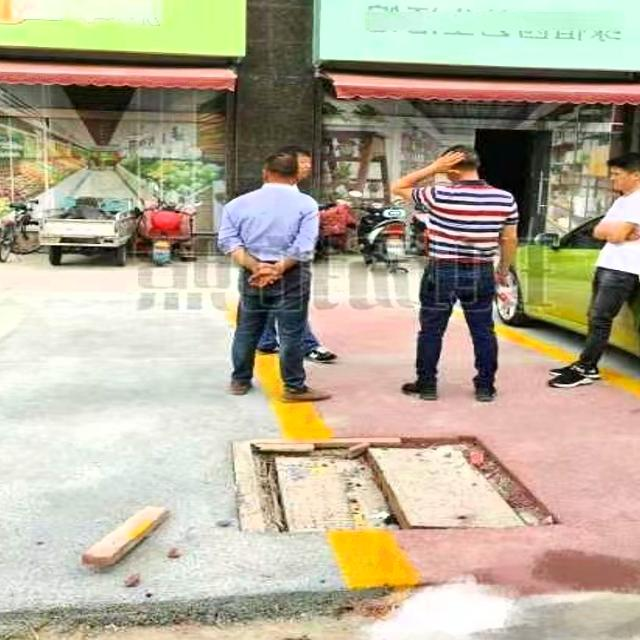circle: (233, 437, 546, 537)
